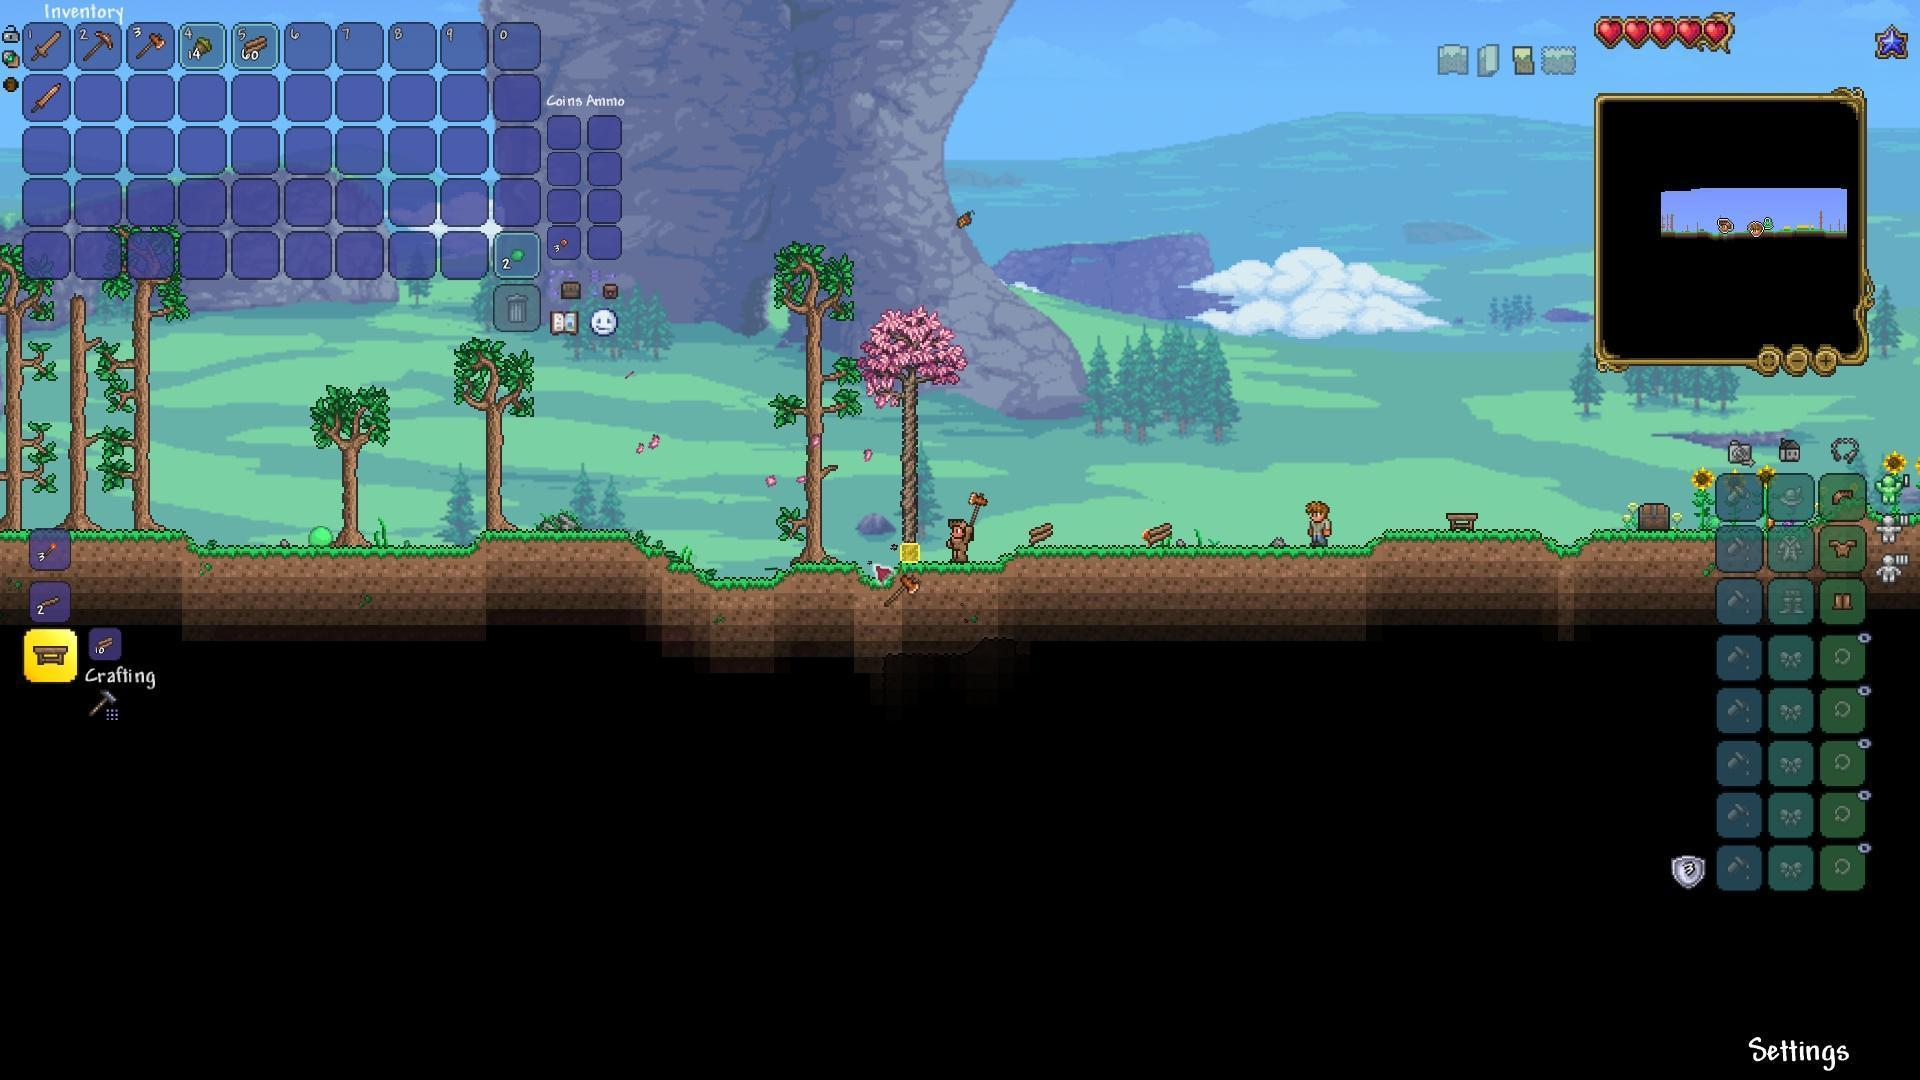breastplate: (1830, 535, 1859, 558)
helmet: (1829, 483, 1858, 508)
legs: (1830, 588, 1855, 616)
slime: (307, 526, 332, 554)
wood: (1026, 520, 1058, 550), (239, 29, 270, 59), (1146, 516, 1178, 546), (92, 632, 119, 657)
workbench: (33, 644, 71, 671), (1444, 505, 1481, 530)
